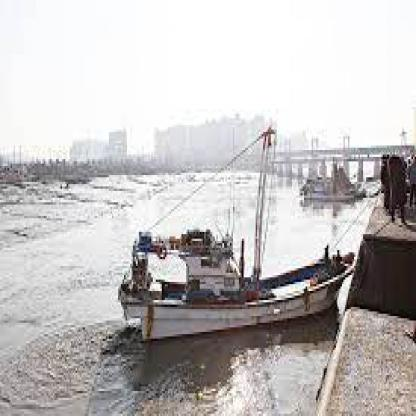fish-b: (113, 216, 360, 341)
